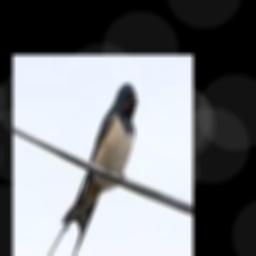Swallow: (40, 83, 138, 256)
